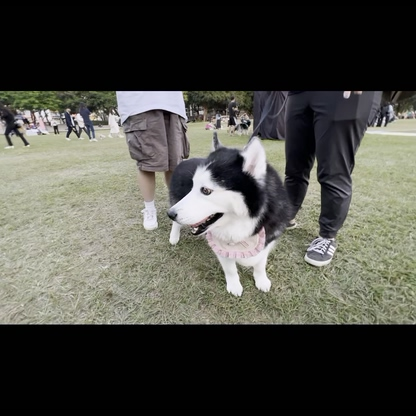husky: (162, 131, 299, 299)
